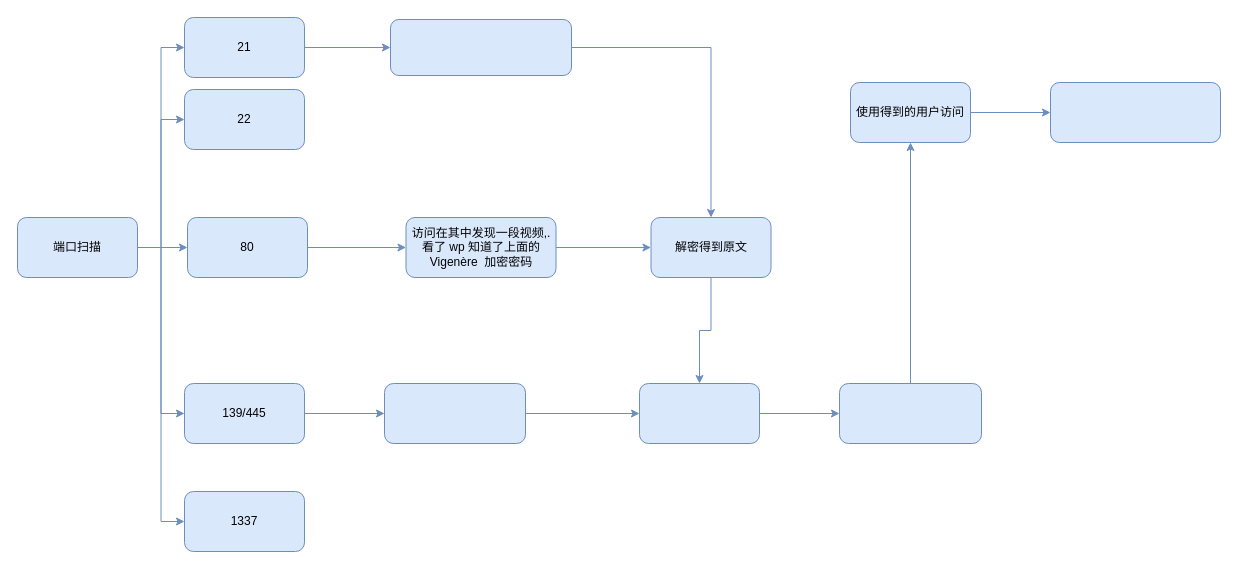
Some shapes in this 1238 by 569 pixel diagram are drawn without their labels. The shapes that lost their labels are listed below. From the top down, each one's centre as x and y in pixels, then its label:
At point (481, 47): "发现存在匿名登陆, 登陆之后获取到一张照片, 存在文件隐写术, 同时使用Vigenère 加密".
At point (1135, 112): "发现一个可以利用的 CVE 漏洞".
At point (455, 413): "使用 enum 工具进行枚举扫描到一个新的用户".
At point (699, 413): "使用得到的密码以及用户进行连接".
At point (910, 413): "获取到一个新的目录, 同时访问发现用户的密码".
